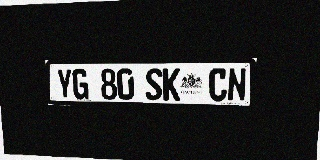0: (117, 68, 134, 100)
8: (100, 69, 117, 100)
C: (209, 68, 227, 101)
G: (72, 69, 89, 99)
K: (163, 68, 180, 101)
N: (227, 68, 247, 102)
S: (145, 68, 162, 100)
Y: (56, 69, 73, 99)
